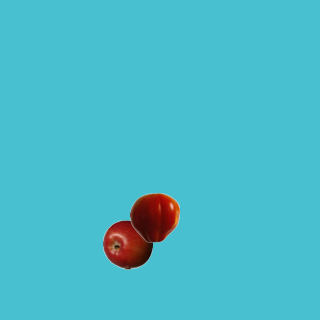Apple Braeburn: (102, 219, 152, 269)
Tomato 1: (129, 192, 179, 242)
